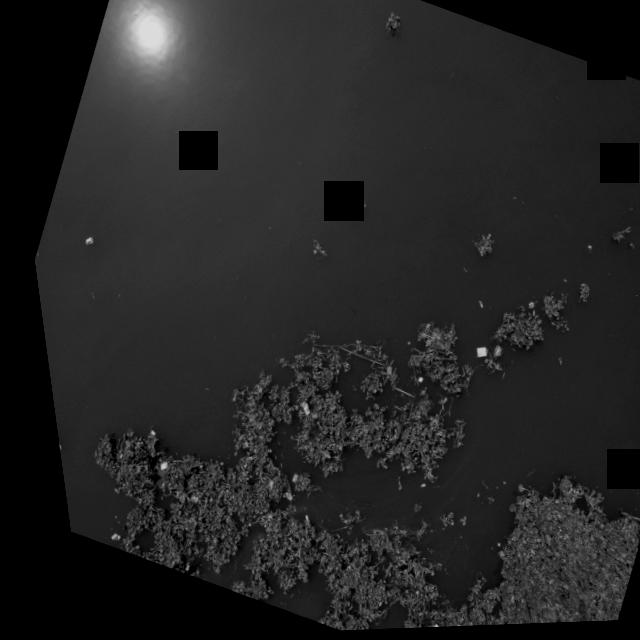plastic: (623, 184, 640, 253), (474, 344, 502, 370), (457, 342, 483, 368), (278, 398, 305, 423), (302, 244, 324, 271), (272, 468, 290, 489), (141, 456, 156, 473), (171, 491, 186, 507), (91, 530, 108, 543), (265, 491, 280, 504), (407, 622, 428, 630), (285, 512, 296, 525), (135, 428, 143, 437)
